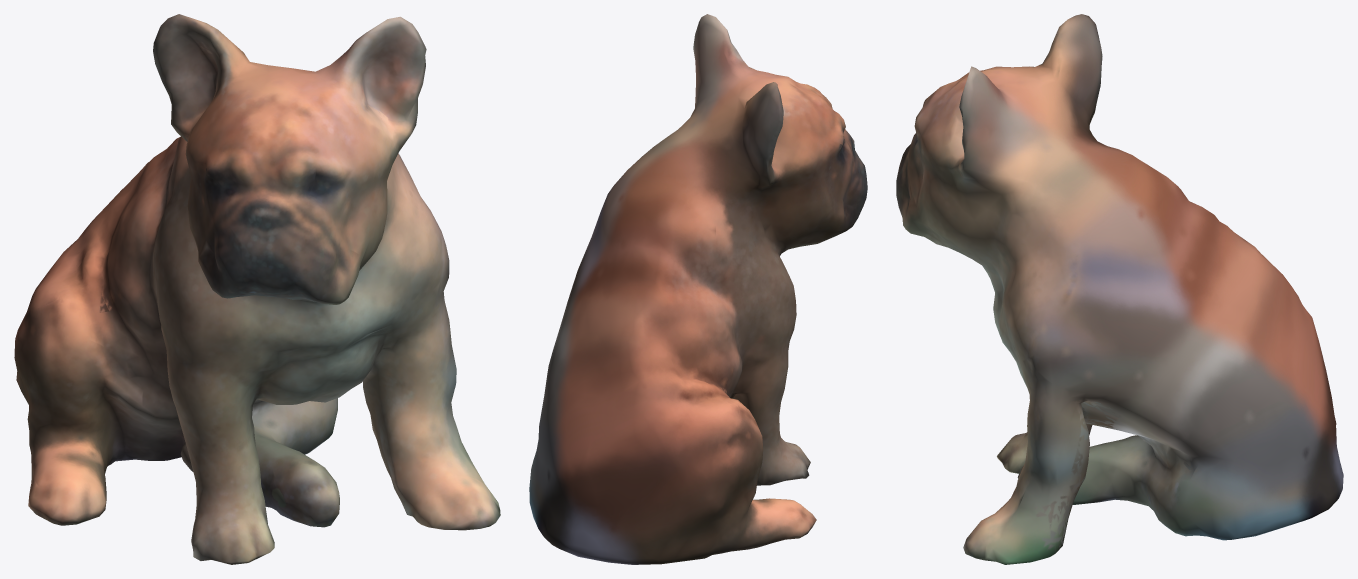
The model's file is french_bulldog_sitting.glb.
The picture shows the model from 3 angles, left to right: view 1: azimuth 30°, elevation 25°; view 2: azimuth 150°, elevation 25°; view 3: azimuth 270°, elevation 25°; orthographic projection. The views are drawn at different scales.
Visible parts, largest first — view 1: geo1; view 2: geo1; view 3: geo1.
Part boxes in pixels (x1,y1,x2,y2): geo1: (14, 14, 500, 564); geo1: (529, 14, 867, 564); geo1: (896, 14, 1343, 564).
Size of the model in its own units: 0.2823 by 0.3895 by 0.3526.
Materials: 1 (1 with a texture image).
